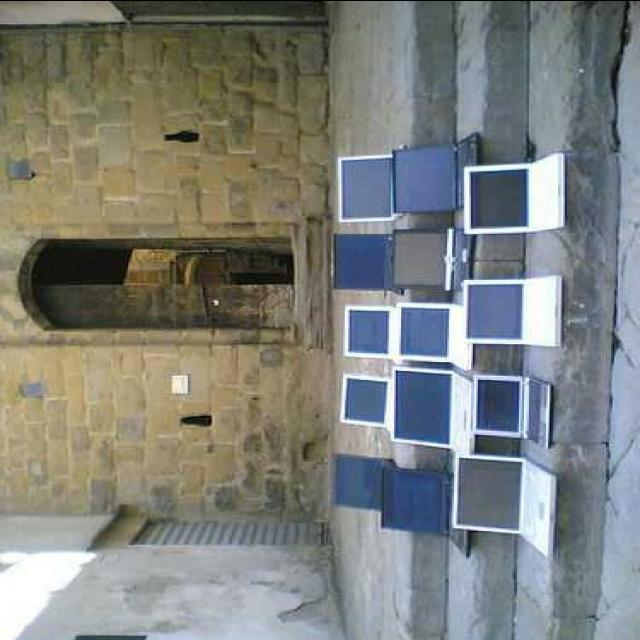laptop: (454, 454, 558, 558), (464, 158, 574, 244), (455, 276, 568, 352), (472, 374, 552, 450), (400, 136, 468, 222), (386, 468, 466, 541), (394, 384, 471, 456), (395, 304, 461, 374), (394, 233, 469, 290), (337, 230, 403, 292), (326, 455, 381, 521), (344, 153, 396, 220), (339, 377, 385, 432), (346, 304, 387, 364)
